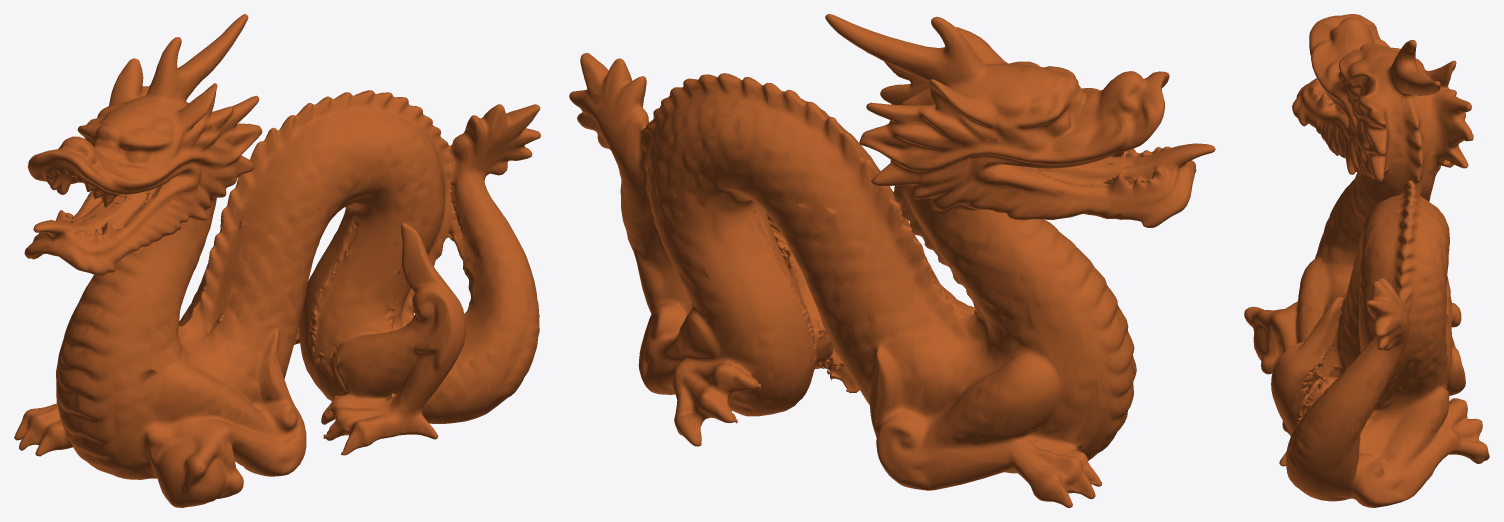
The model's file is stanfordDragon.gltf.
3 views of the same model, side by side, from view 1: azimuth 30°, elevation 25°; view 2: azimuth 150°, elevation 25°; view 3: azimuth 270°, elevation 25° (orthographic). The views are drawn at different scales.
Parts seen in each view (by area): view 1: Dragon; view 2: Dragon; view 3: Dragon.
Boxes of the visible parts, x1=… form: Dragon: x1=14, y1=14, x2=540, y2=507; Dragon: x1=569, y1=14, x2=1215, y2=507; Dragon: x1=1244, y1=14, x2=1489, y2=507.
Bounding box in the file's own units: 3.52 × 2.48 × 1.58.
